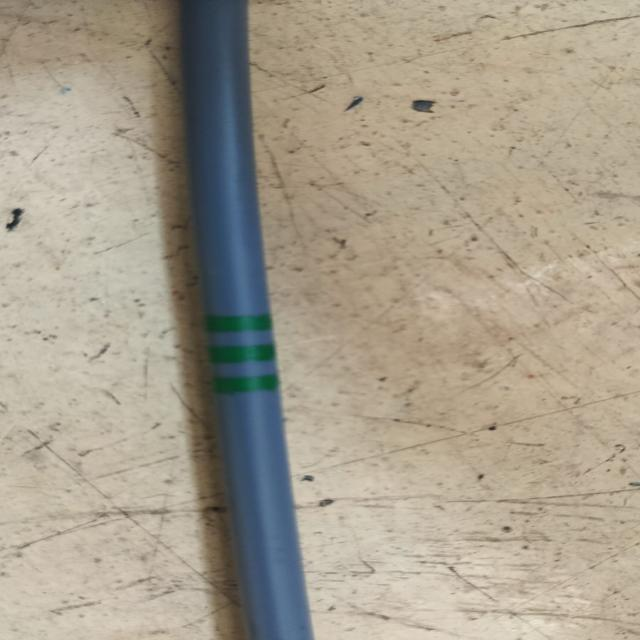green: (199, 314, 278, 392)
